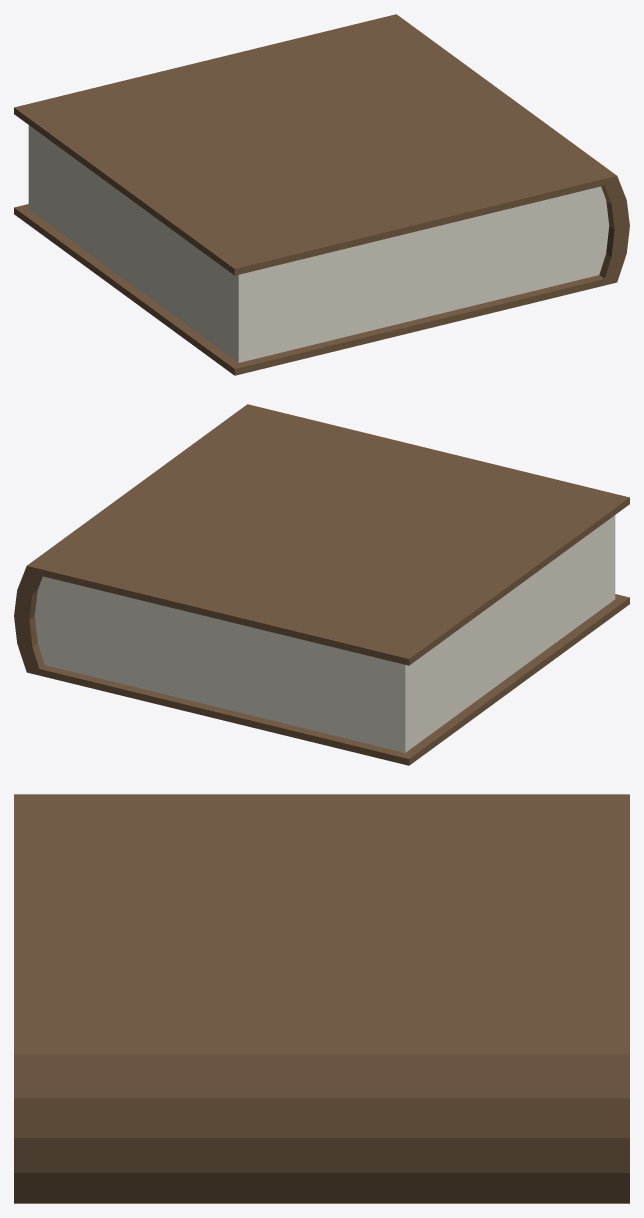
Rendered from Book.fbx.
3 views of the same model, one above another, from view 1: azimuth 30°, elevation 25°; view 2: azimuth 150°, elevation 25°; view 3: azimuth 270°, elevation 25° (orthographic). The views are drawn at different scales.
Parts seen in each view (by area): view 1: Book; view 2: Book; view 3: Book.
Part boxes in pixels (x1,y1,x2,y2): Book: [14, 14, 629, 375]; Book: [14, 404, 629, 765]; Book: [14, 794, 629, 1203].
Bounding box in the file's own units: 620 × 160 × 600.
